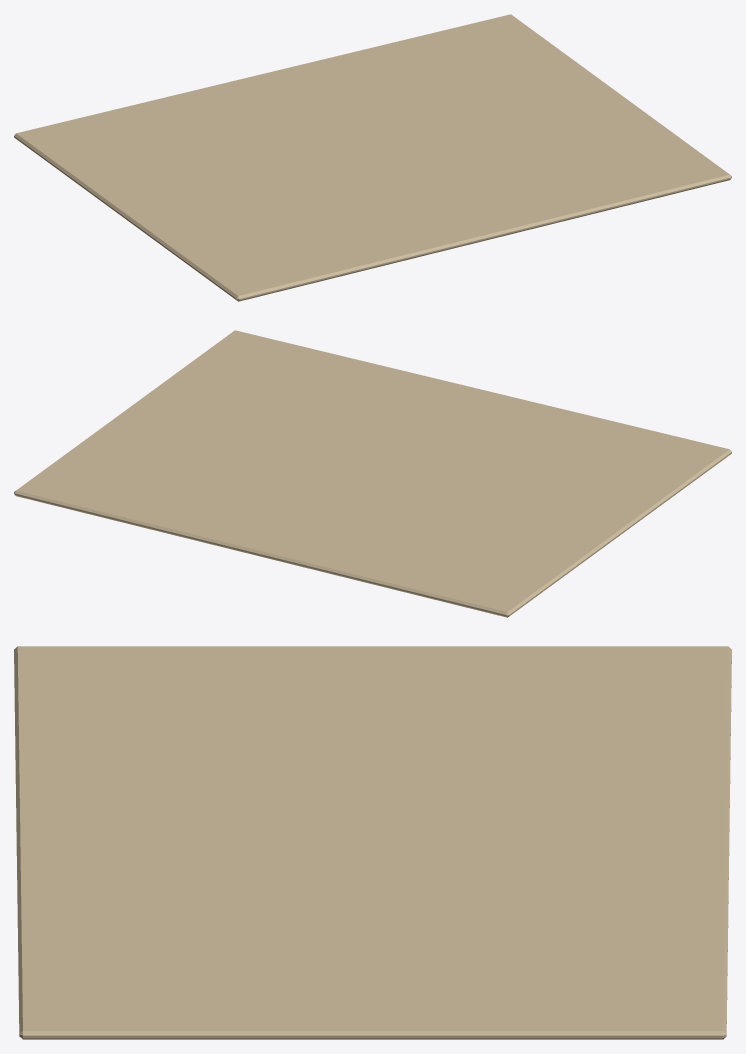
The model's file is deck.glb.
3 views of the same model, one above another, from view 1: azimuth 30°, elevation 25°; view 2: azimuth 150°, elevation 25°; view 3: azimuth 270°, elevation 25° (orthographic). The views are drawn at different scales.
Visible parts, largest first — view 1: WB002V2_Foundation.005; view 2: WB002V2_Foundation.005; view 3: WB002V2_Foundation.005.
Part boxes in pixels (bbox=[...]): WB002V2_Foundation.005: bbox=[14, 14, 731, 301]; WB002V2_Foundation.005: bbox=[14, 330, 731, 617]; WB002V2_Foundation.005: bbox=[14, 646, 731, 1039].
Bounding box in the file's own units: 18.4 × 0.2 × 14.4.
